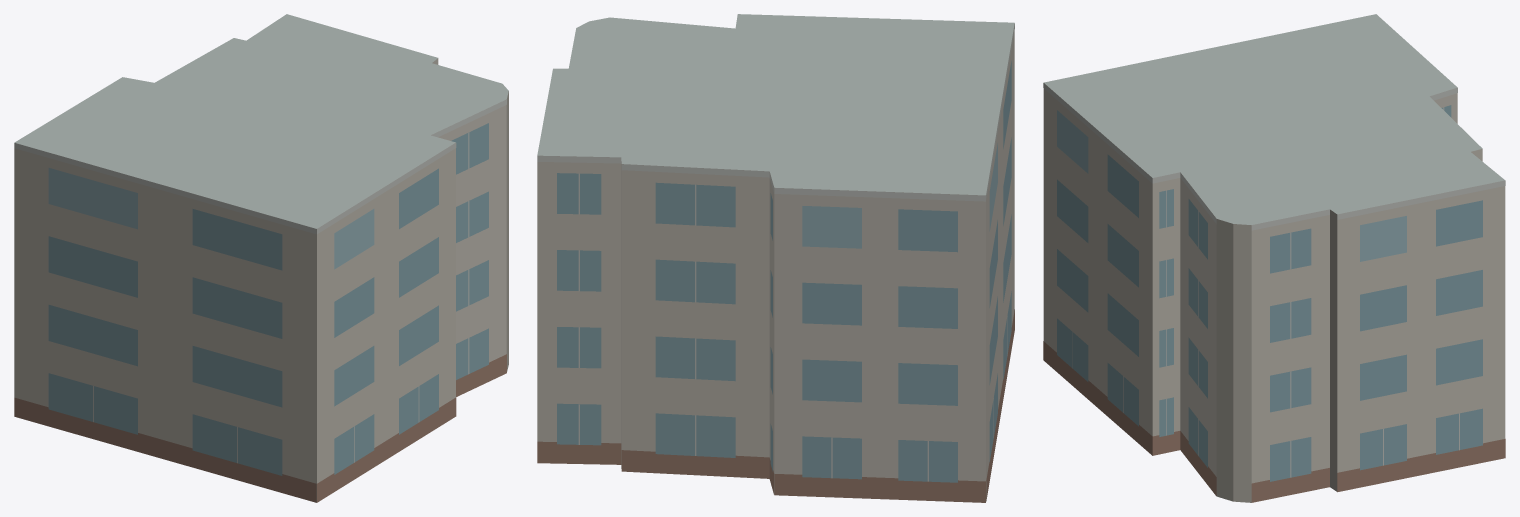
File: survey-upis-32779403.glb
3 renders of one model, left to right at view 1: azimuth 30°, elevation 25°; view 2: azimuth 150°, elevation 25°; view 3: azimuth 270°, elevation 25°, orthographic. The views are drawn at different scales.
Visible parts, largest first — view 1: survey-upis-32779403.tmp; view 2: survey-upis-32779403.tmp; view 3: survey-upis-32779403.tmp.
Boxes of the visible parts, <box> form: survey-upis-32779403.tmp: <box>14,14,508,502</box>; survey-upis-32779403.tmp: <box>537,14,1014,502</box>; survey-upis-32779403.tmp: <box>1043,14,1505,502</box>.
Size of the model in its own units: 19.9 by 12.2 by 18.4.
